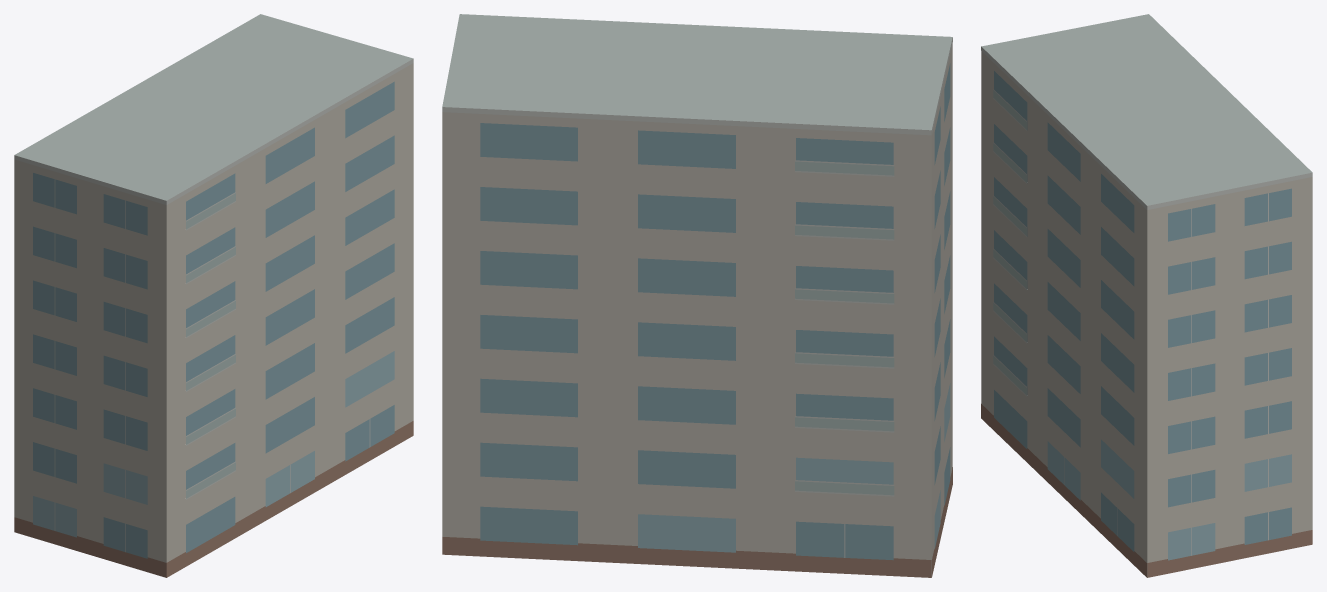
The model's file is survey-upis-32980783.glb.
The picture shows the model from 3 angles, left to right: view 1: azimuth 30°, elevation 25°; view 2: azimuth 150°, elevation 25°; view 3: azimuth 270°, elevation 25°; orthographic projection. The views are drawn at different scales.
Visible parts, largest first — view 1: survey-upis-32980783.tmp; view 2: survey-upis-32980783.tmp; view 3: survey-upis-32980783.tmp.
Boxes of the visible parts, bbox=[...] form: survey-upis-32980783.tmp: bbox=[14, 14, 413, 577]; survey-upis-32980783.tmp: bbox=[442, 14, 952, 577]; survey-upis-32980783.tmp: bbox=[981, 14, 1312, 577].
Bounding box in the file's own units: 23.63 × 21.35 × 17.25.
